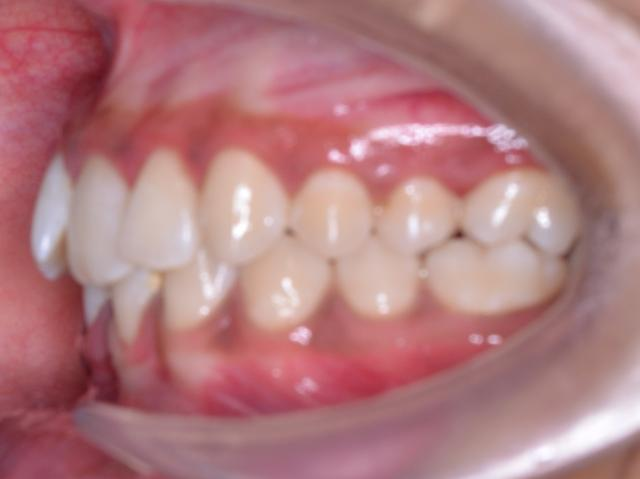canine class I: (160, 145, 338, 342)
molar class I: (423, 161, 582, 325)
